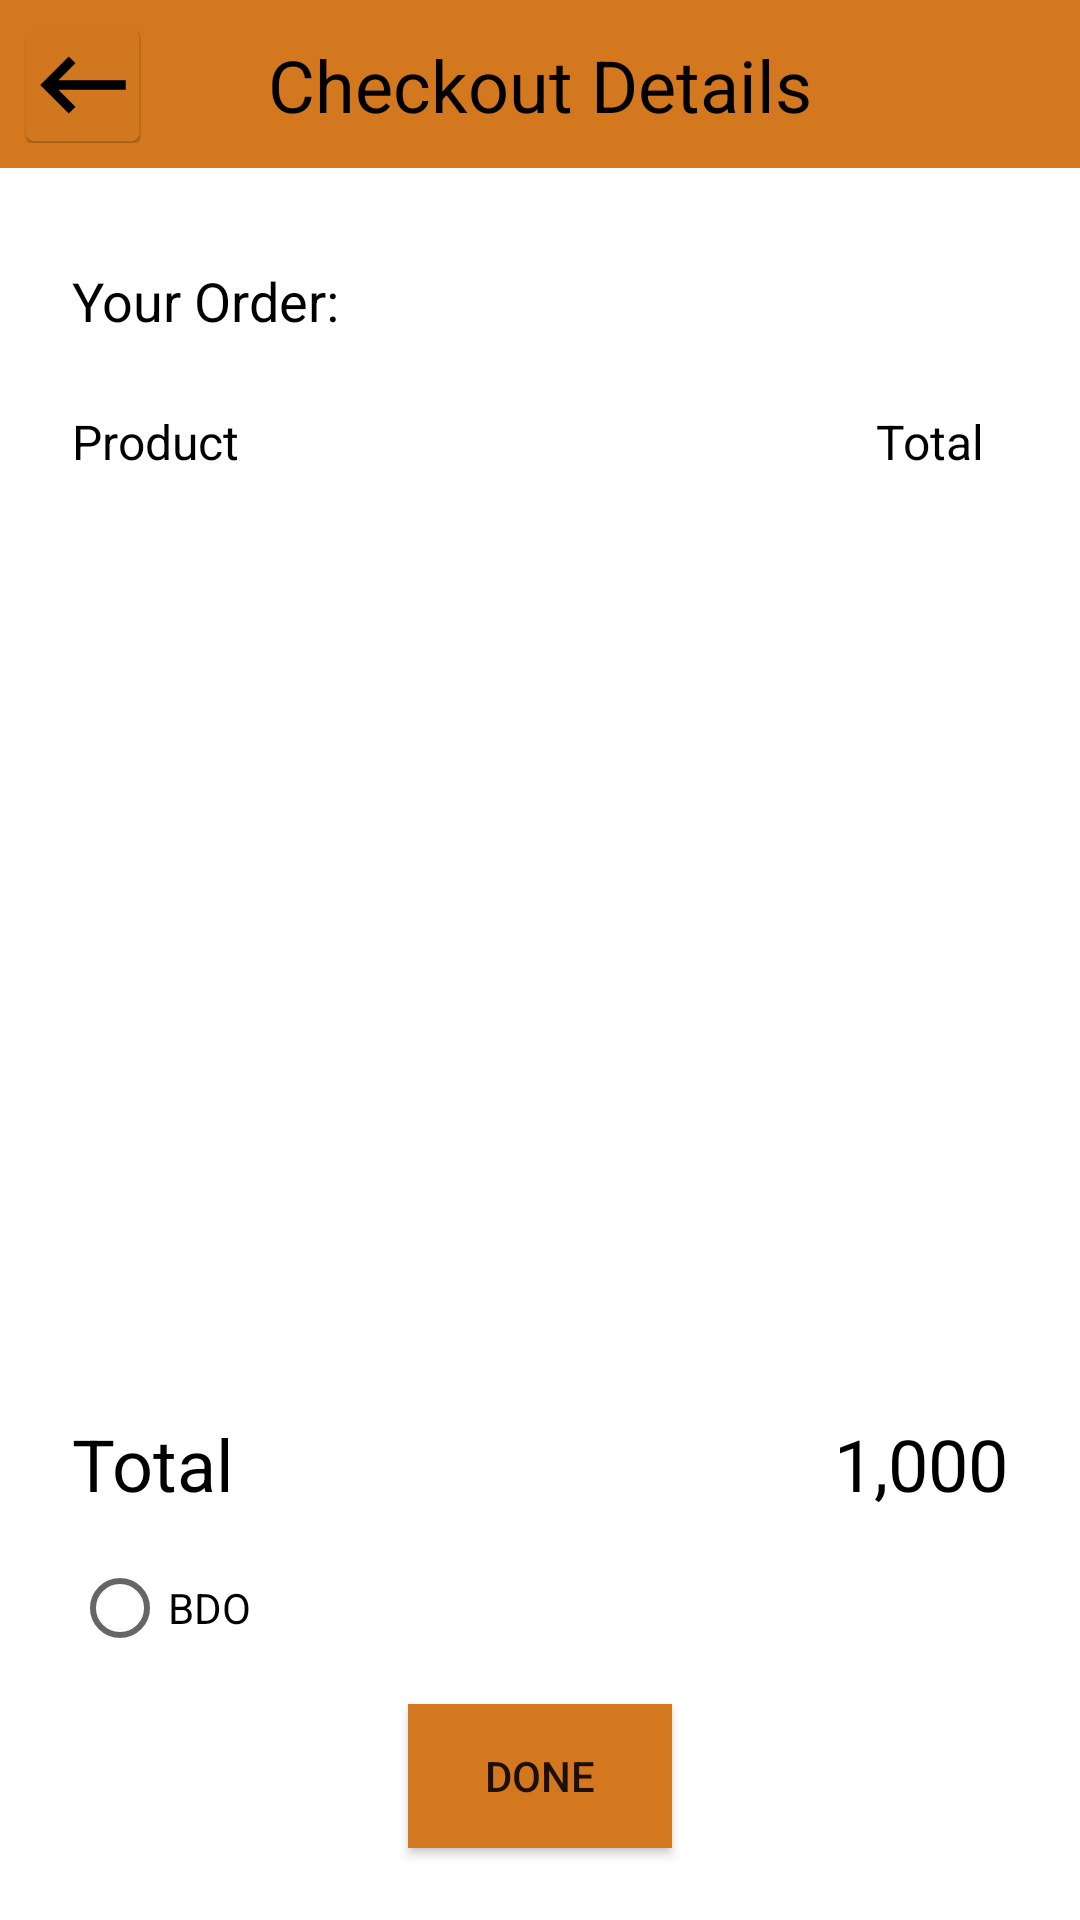

Icons on this 1080px×1920px Android screen, each with its box as (x1, y1, x2, y2):
back: (26, 34, 141, 143)
